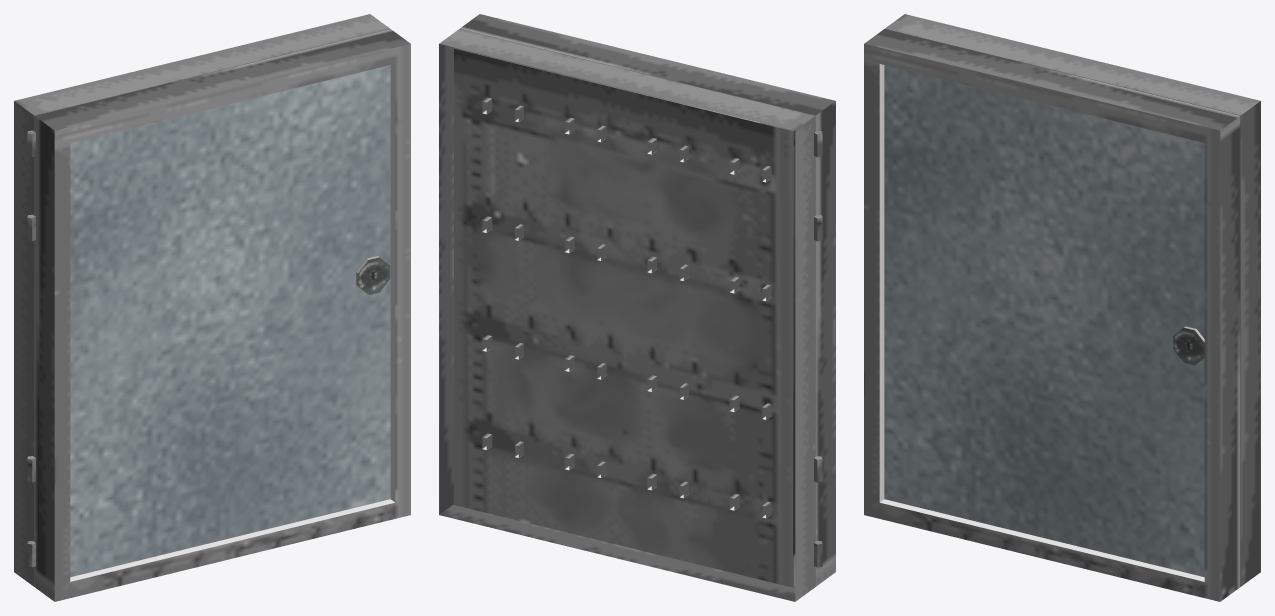
File: KeyBox.fbx
3 views of the same model, side by side, from view 1: azimuth 30°, elevation 25°; view 2: azimuth 150°, elevation 25°; view 3: azimuth 330°, elevation 25° (orthographic).
Parts seen in each view (by area): view 1: KeyChainsFront, KeyChains; view 2: KeyChains, KeyChainsFront; view 3: KeyChainsFront, KeyChains.
Part boxes in pixels (box(x1,y1,x2,y2)): KeyChainsFront: box(27, 29, 410, 601); KeyChains: box(14, 14, 389, 586); KeyChains: box(439, 29, 815, 601); KeyChainsFront: box(460, 14, 835, 586); KeyChainsFront: box(864, 29, 1240, 601); KeyChains: box(885, 14, 1260, 586).
Size of the model in its own units: 2.41 by 2.99 by 0.4677.
